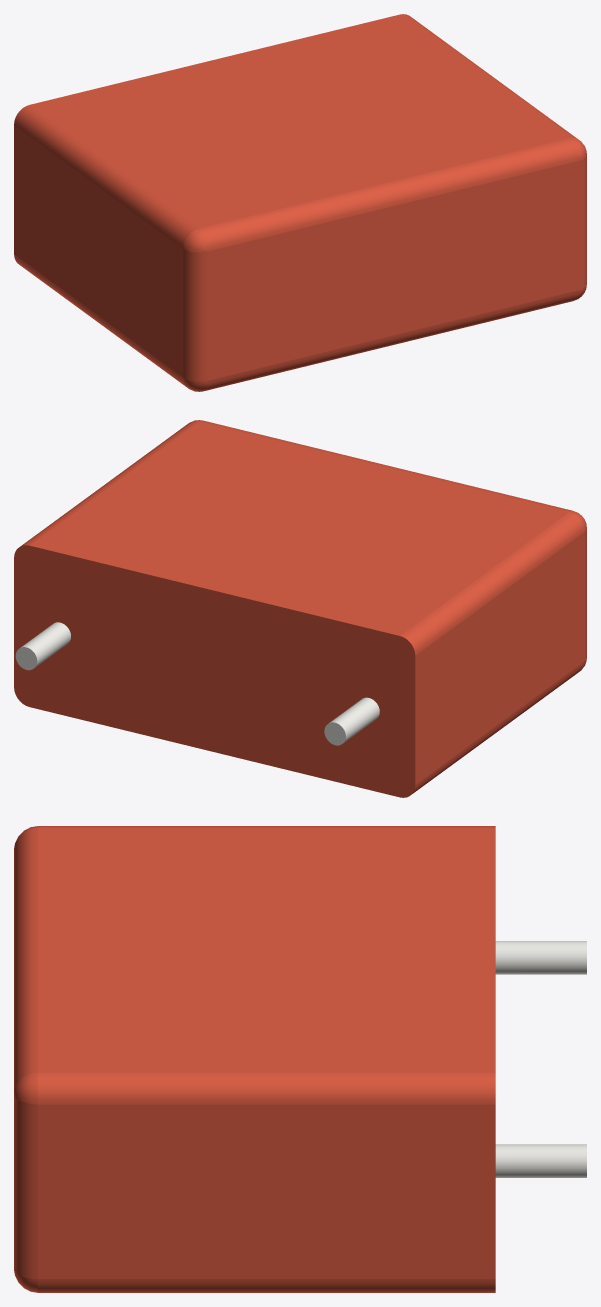
The model's file is C_Rect_L13.0mm_W5.0mm_P10.00mm_FKS3_FKP3_MKS4.glb.
3 views of the same model, one above another, from view 1: azimuth 30°, elevation 25°; view 2: azimuth 150°, elevation 25°; view 3: azimuth 270°, elevation 25° (orthographic). The views are drawn at different scales.
Visible parts, largest first — view 1: Shape_IndexedFaceSet.009, Shape_IndexedFaceSet.007, Shape_IndexedFaceSet, Shape_IndexedFaceSet.016, Shape_IndexedFaceSet.004, Shape_IndexedFaceSet.015, Shape_IndexedFaceSet.002, Shape_IndexedFaceSet.001, Shape_IndexedFaceSet.017, Shape_IndexedFaceSet.011; view 2: Shape_IndexedFaceSet.003, Shape_IndexedFaceSet.009, Shape_IndexedFaceSet, Shape_IndexedFaceSet.004, Shape_IndexedFaceSet.001, Shape_IndexedFaceSet.011, Shape_IndexedFaceSet.013, Shape_IndexedFaceSet.014, Shape_IndexedFaceSet.016; view 3: Shape_IndexedFaceSet.009, Shape_IndexedFaceSet.012, Shape_IndexedFaceSet.011, Shape_IndexedFaceSet.010, Shape_IndexedFaceSet.016, Shape_IndexedFaceSet.017, Shape_IndexedFaceSet.013, Shape_IndexedFaceSet.014, Shape_IndexedFaceSet.004, Shape_IndexedFaceSet.019.
Boxes of the visible parts, bbox=[...] form: Shape_IndexedFaceSet.009: bbox=[30, 14, 568, 228]; Shape_IndexedFaceSet.007: bbox=[207, 161, 577, 380]; Shape_IndexedFaceSet: bbox=[14, 125, 183, 377]; Shape_IndexedFaceSet.016: bbox=[199, 138, 577, 251]; Shape_IndexedFaceSet.004: bbox=[14, 105, 198, 248]; Shape_IndexedFaceSet.015: bbox=[204, 290, 577, 390]; Shape_IndexedFaceSet.002: bbox=[183, 249, 207, 381]; Shape_IndexedFaceSet.001: bbox=[14, 254, 186, 386]; Shape_IndexedFaceSet.017: bbox=[578, 156, 586, 290]; Shape_IndexedFaceSet.011: bbox=[400, 14, 577, 138]; Shape_IndexedFaceSet.003: bbox=[14, 545, 415, 797]; Shape_IndexedFaceSet.009: bbox=[30, 422, 568, 635]; Shape_IndexedFaceSet: bbox=[415, 532, 584, 784]; Shape_IndexedFaceSet.004: bbox=[400, 512, 584, 655]; Shape_IndexedFaceSet.001: bbox=[412, 661, 584, 793]; Shape_IndexedFaceSet.011: bbox=[20, 421, 198, 546]; Shape_IndexedFaceSet.013: bbox=[329, 697, 379, 742]; Shape_IndexedFaceSet.014: bbox=[20, 622, 70, 667]; Shape_IndexedFaceSet.016: bbox=[199, 420, 572, 511]; Shape_IndexedFaceSet.009: bbox=[38, 828, 495, 1072]; Shape_IndexedFaceSet.012: bbox=[38, 1104, 495, 1278]; Shape_IndexedFaceSet.011: bbox=[38, 1072, 495, 1104]; Shape_IndexedFaceSet.010: bbox=[38, 1279, 495, 1292]; Shape_IndexedFaceSet.016: bbox=[14, 828, 37, 1092]; Shape_IndexedFaceSet.017: bbox=[14, 1095, 37, 1278]; Shape_IndexedFaceSet.013: bbox=[495, 941, 586, 974]; Shape_IndexedFaceSet.014: bbox=[495, 1144, 586, 1177]; Shape_IndexedFaceSet.004: bbox=[38, 826, 495, 828]; Shape_IndexedFaceSet.019: bbox=[14, 1072, 37, 1104].
Bounding box in the file's own units: 5.12 × 1.97 × 4.69.
